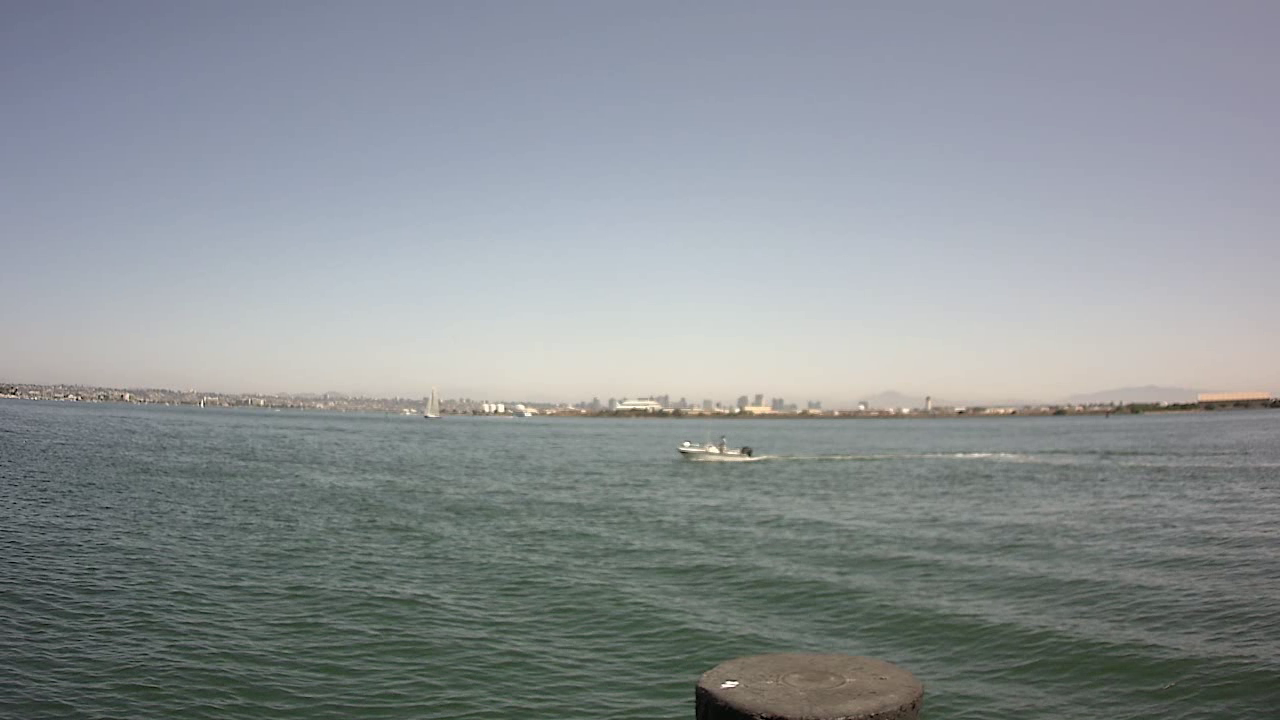target: (672, 431, 771, 472)
